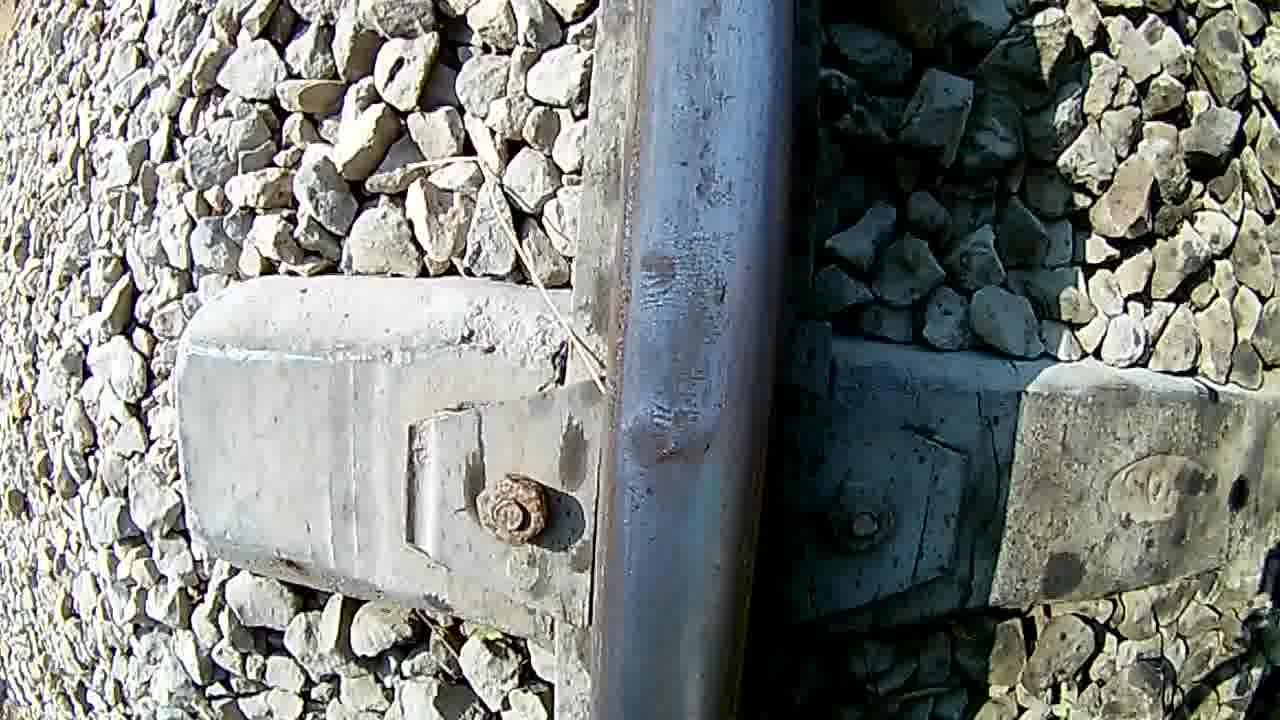crack: (595, 0, 786, 720)
